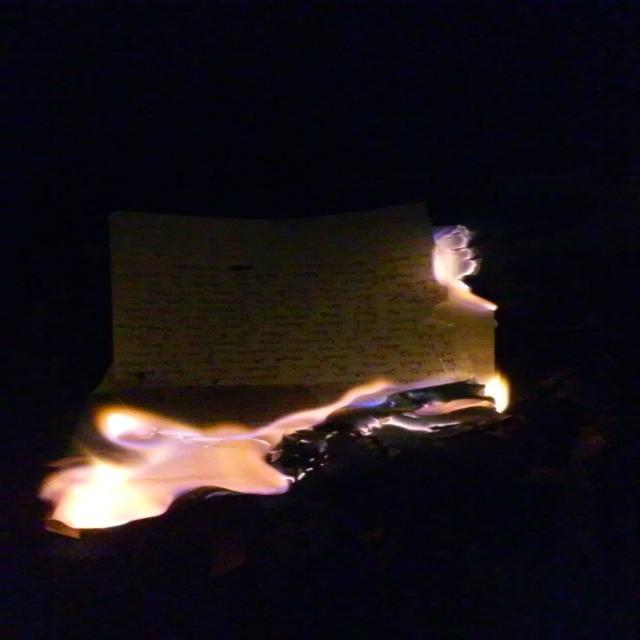fire: (42, 410, 298, 526), (230, 378, 401, 443), (430, 224, 497, 312)
